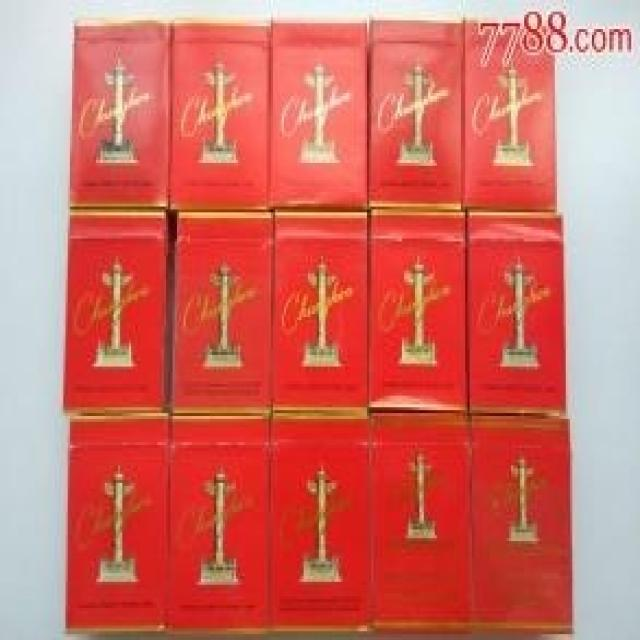box: (371, 410, 474, 640), (164, 413, 271, 634), (66, 413, 170, 631), (269, 413, 371, 634), (472, 416, 574, 637), (63, 207, 170, 413), (465, 215, 568, 419), (173, 209, 275, 413), (369, 209, 467, 413), (273, 209, 369, 413), (168, 20, 269, 209), (369, 17, 465, 212), (269, 23, 369, 209), (70, 23, 168, 207), (465, 20, 555, 212)
